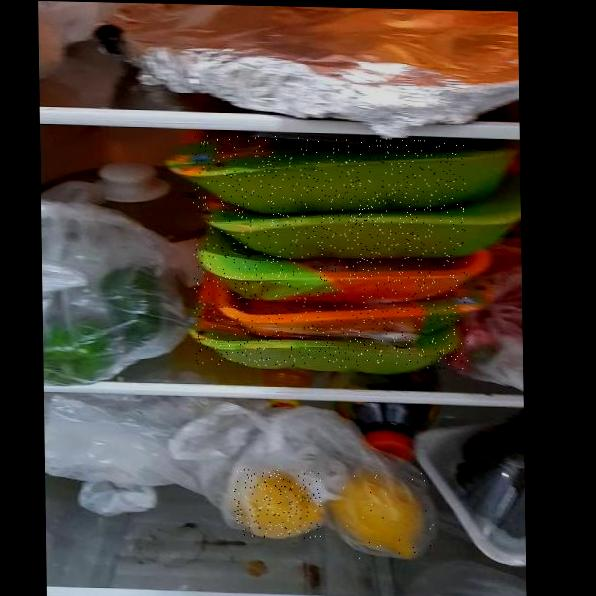chicken: (192, 134, 468, 370)
lemon: (339, 472, 436, 560), (233, 469, 322, 539)
